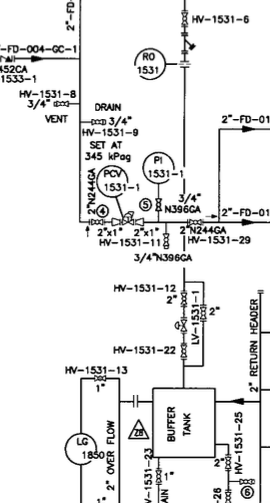Instrument-offset: (141, 146, 189, 187), (95, 162, 140, 200), (62, 432, 105, 467), (129, 45, 169, 82)
